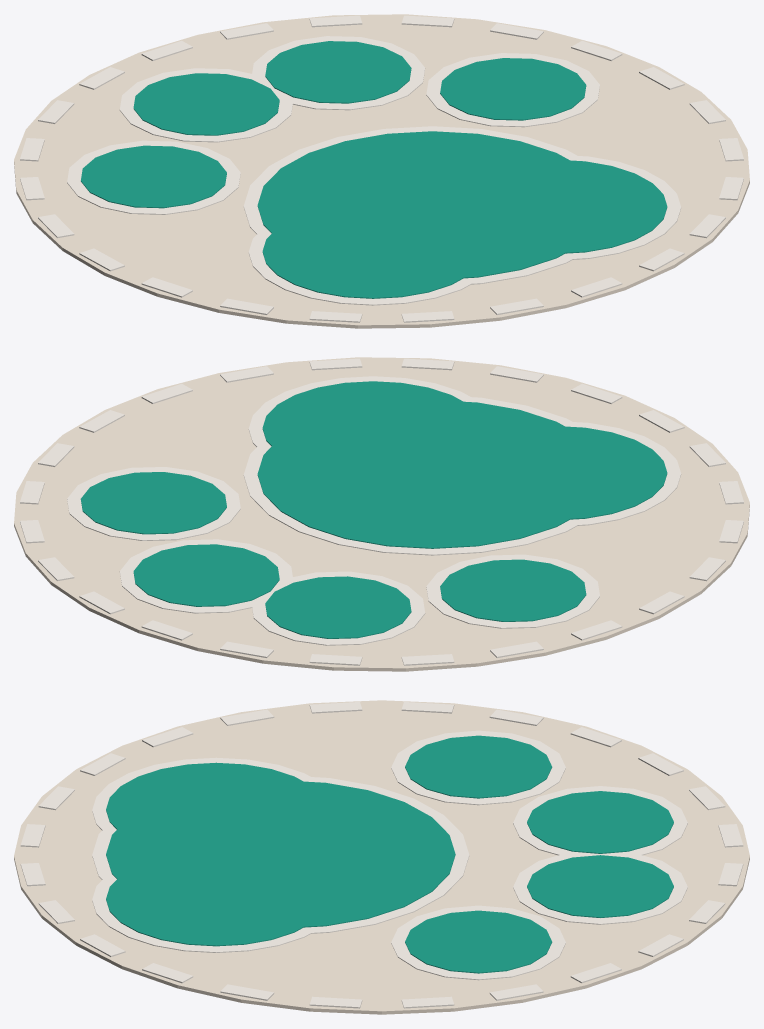
The model's file is CatCafe_Square_LandingPad.glb.
3 renders of one model, top to bottom at view 1: azimuth 30°, elevation 25°; view 2: azimuth 150°, elevation 25°; view 3: azimuth 270°, elevation 25°, orthographic.
Parts seen in each view (by area): view 1: CatCafe_Square_LandingPad; view 2: CatCafe_Square_LandingPad; view 3: CatCafe_Square_LandingPad.
Part boxes in pixels (<box>): CatCafe_Square_LandingPad: <box>14,14,749,328</box>; CatCafe_Square_LandingPad: <box>14,357,749,671</box>; CatCafe_Square_LandingPad: <box>14,700,749,1014</box>.
Size of the model in its own units: 16 by 0.12 by 16.
1 material, 1 textured.
